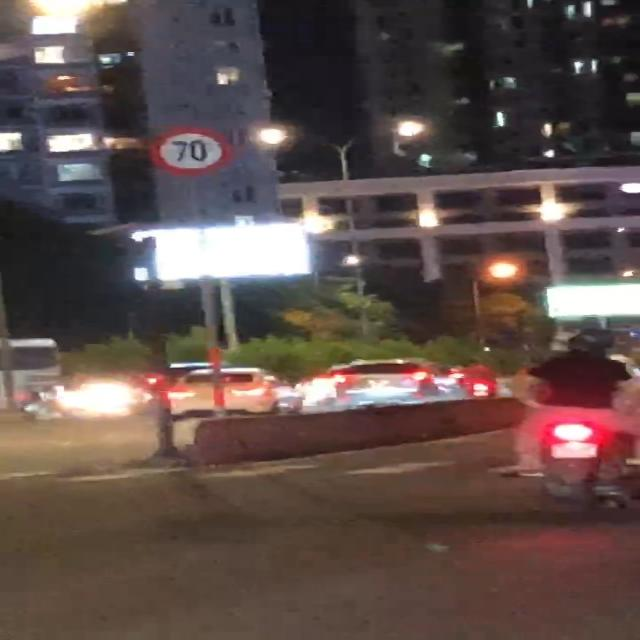Bien bao toc do toi da cho phep: (140, 127, 236, 176)
